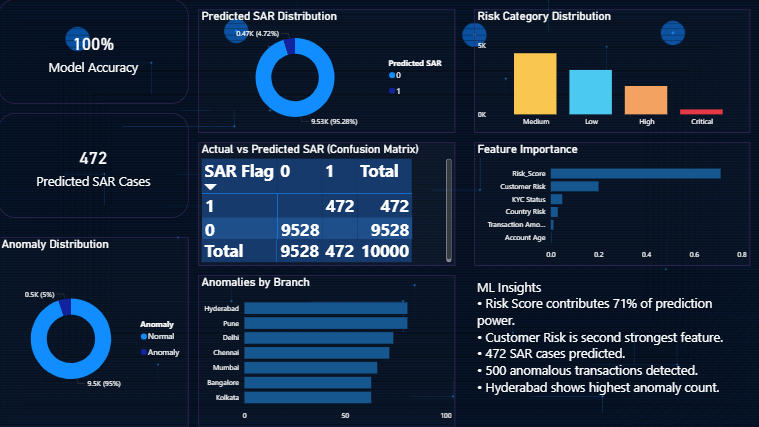

This screenshot's page, from the dashboard's own definition file:
{"tool":"powerbi","page":{"name":"ML & Anomaly Analytics","canvas":[1280,720],"ordinal":2},"visuals":[{"type":"donutChart","title":"Predicted SAR Distribution","fields":{"Category":["aml_enriched.Predicted_SAR"],"Y":["CountNonNull(aml_enriched.Transaction_ID)"]},"box":[336,16,432,208],"z":0},{"type":"donutChart","title":"Anomaly Distribution","fields":{"Category":["aml_enriched.Anomaly"],"Y":["CountNonNull(aml_enriched.Transaction_ID)"]},"box":[0,400,320,320],"z":1000},{"type":"pivotTable","title":"Actual vs Predicted SAR (Confusion Matrix)","fields":{"Rows":["aml_enriched.SAR_Flag"],"Columns":["aml_enriched.Predicted_SAR"],"Values":["CountNonNull(aml_enriched.Transaction_ID)"]},"box":[336,240,432,208],"z":2000},{"type":"clusteredColumnChart","title":"Risk Category Distribution","fields":{"Category":["aml_enriched.Risk_Category"],"Y":["CountNonNull(aml_enriched.Transaction_ID)"]},"box":[800,16,464,208],"z":3000},{"type":"clusteredBarChart","title":"Feature Importance","fields":{"Category":["Sheet1.Feature"],"Y":["Sum(Sheet1.Importance)"]},"box":[800,240,464,208],"z":4000},{"type":"clusteredBarChart","title":"Anomalies by Branch","fields":{"Category":["aml_enriched.Branch"],"Y":["CountNonNull(aml_enriched.Anomaly)"]},"box":[336,464,432,256],"z":5000},{"type":"card","fields":{"Values":["Sheet1.Model Accuracy"]},"box":[0,0,320,176],"z":6000},{"type":"card","fields":{"Values":["aml_enriched.Predicted SAR Cases"]},"box":[0,192,320,176],"z":7000},{"type":"textbox","box":[800,464,464,256],"z":7001}]}

Visuals, with their boxes in screenshot pixels (x1, y1, x2, y2), scaled from the page's 1280x720 canvas onto the 759x427 screenshot:
"Predicted SAR Distribution" donutChart: locate(199, 9, 455, 133)
"Anomaly Distribution" donutChart: locate(0, 237, 190, 426)
"Actual vs Predicted SAR (Confusion Matrix)" pivotTable: locate(199, 142, 455, 266)
"Risk Category Distribution" clusteredColumnChart: locate(474, 9, 750, 133)
"Feature Importance" clusteredBarChart: locate(474, 142, 750, 266)
"Anomalies by Branch" clusteredBarChart: locate(199, 275, 455, 426)
card - Sheet1.Model Accuracy: locate(0, 0, 190, 104)
card - aml_enriched.Predicted SAR Cases: locate(0, 114, 190, 218)
textbox: locate(474, 275, 750, 426)
